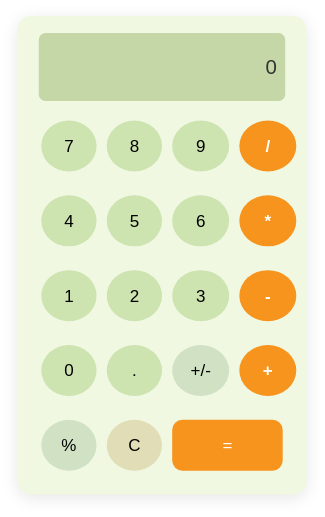
Scenario: Calculadora básica › usa el botón C para limpiar el display
Click the button "9" at [201, 146], box [172,120,229,171]
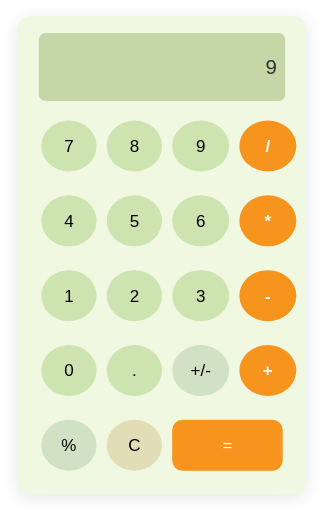
Click the button "C" at [134, 445], box [107,419,162,470]
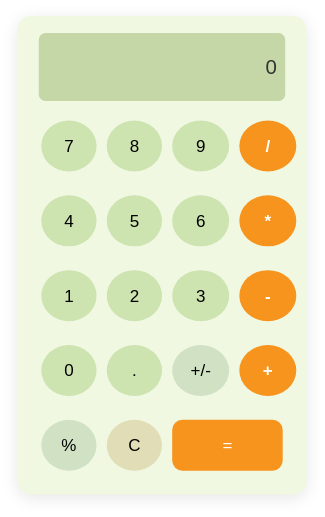
expect the field with test id "display" holds "0": met, box [39,32,285,100]
